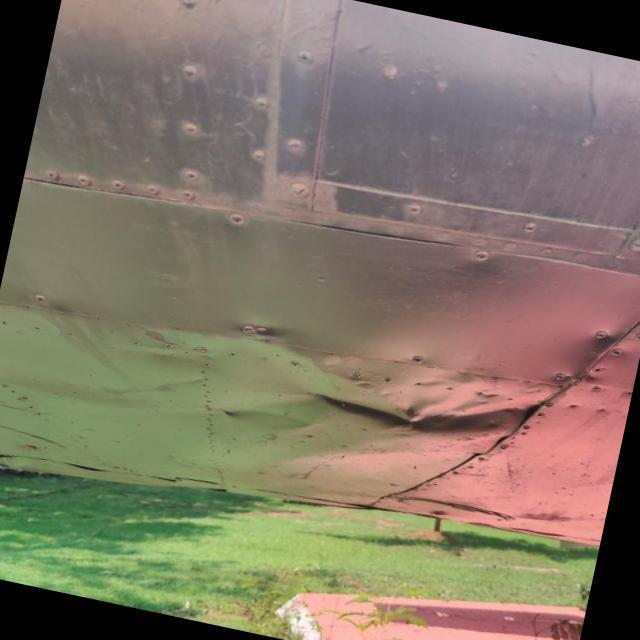Dent: (274, 319, 561, 480)
